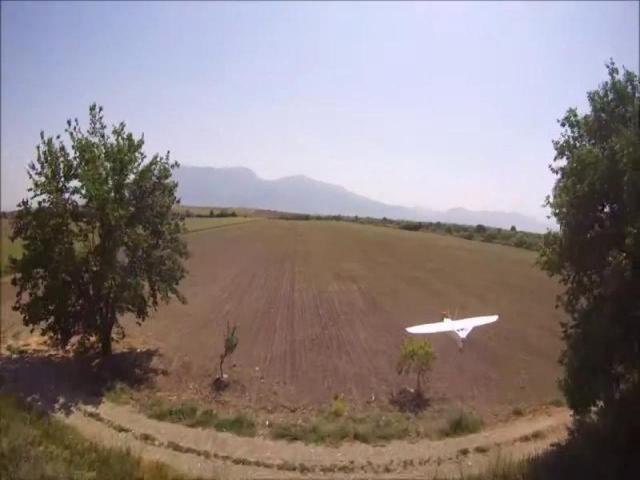hedef: (403, 306, 511, 352)
